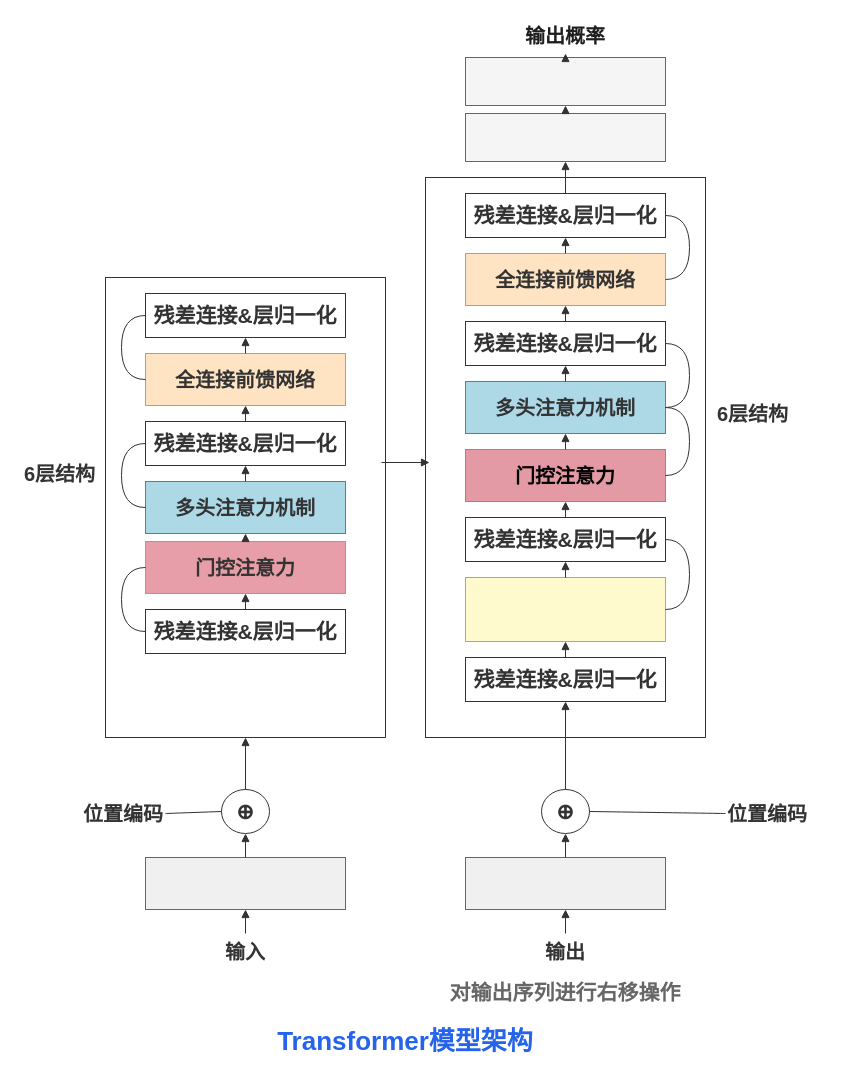
The diagram is 842 pixels wide and 1082 high, and some of its shapes have lost their labels. The shapes that lost their labels are listed below. From the top down, each one's centre as x and y in pixels, then its label:
At (565,81): "Softmax 函数".
At (565,137): "线性变换".
At (565,609): "掩码多头 注意力机制".
At (245,883): "输入嵌入".
At (565,883): "输出嵌入".
